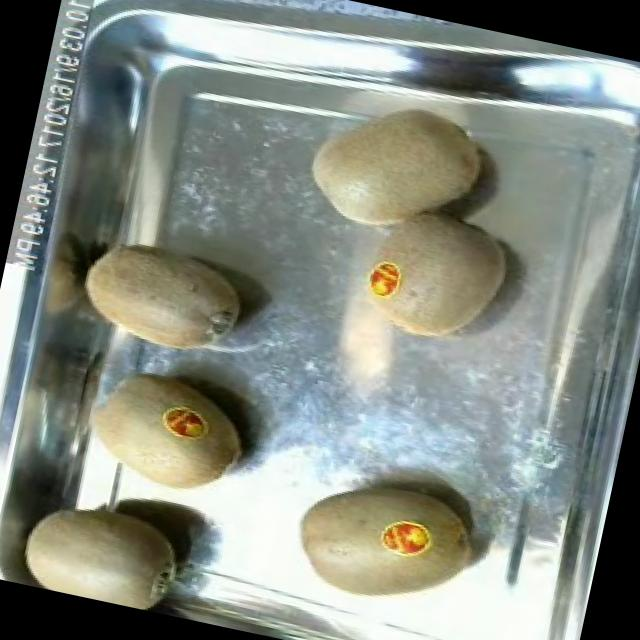Fruit: (290, 78, 508, 260), (276, 453, 496, 630), (348, 185, 530, 364), (71, 350, 262, 512), (64, 222, 262, 372), (4, 478, 200, 617)
